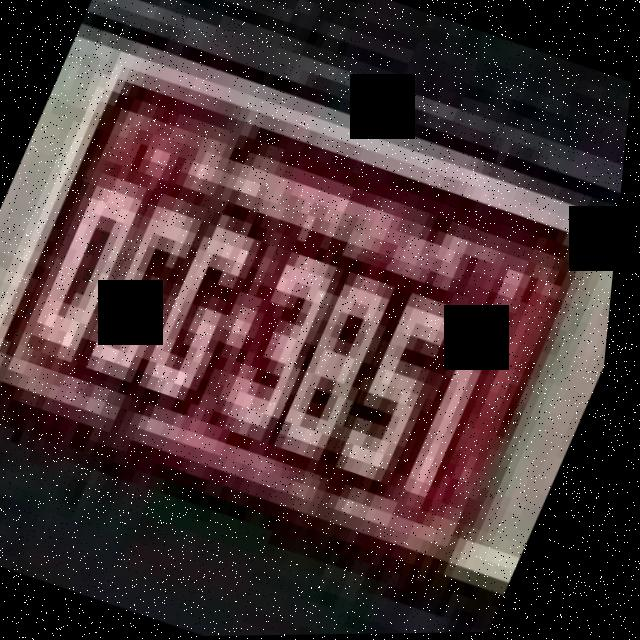1: (396, 291, 533, 529)
3: (210, 228, 365, 460)
5: (332, 277, 481, 504)
8: (267, 251, 422, 484)
C: (78, 179, 223, 392)
G: (137, 201, 283, 421)
Q: (13, 155, 164, 377)
